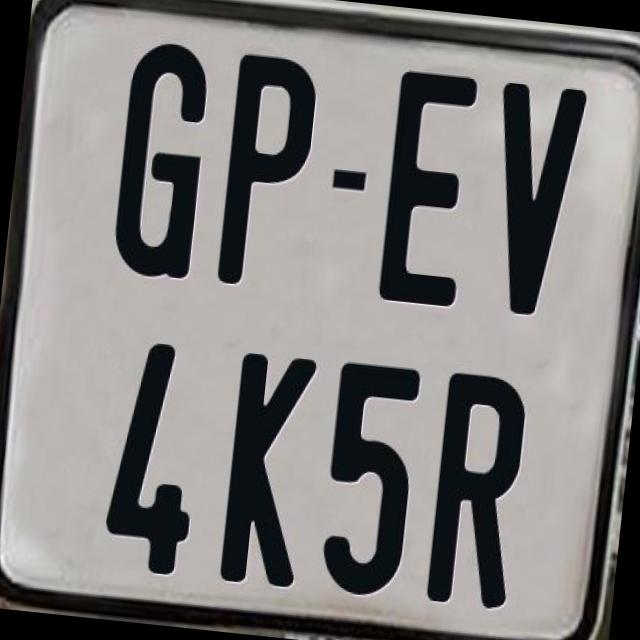4: (98, 338, 212, 584)
5: (312, 359, 425, 607)
E: (372, 69, 482, 317)
G: (109, 36, 210, 276)
K: (215, 347, 318, 592)
P: (216, 52, 324, 290)
R: (422, 368, 528, 606)
V: (476, 77, 586, 323)
